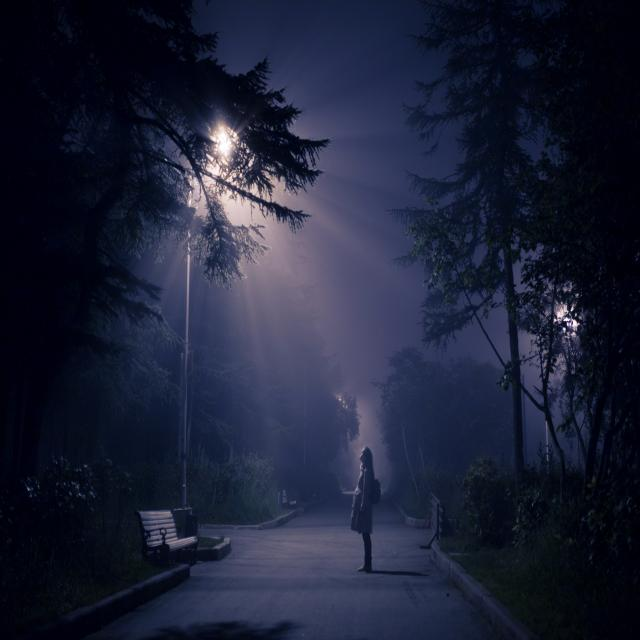adult: (350, 446, 373, 570)
